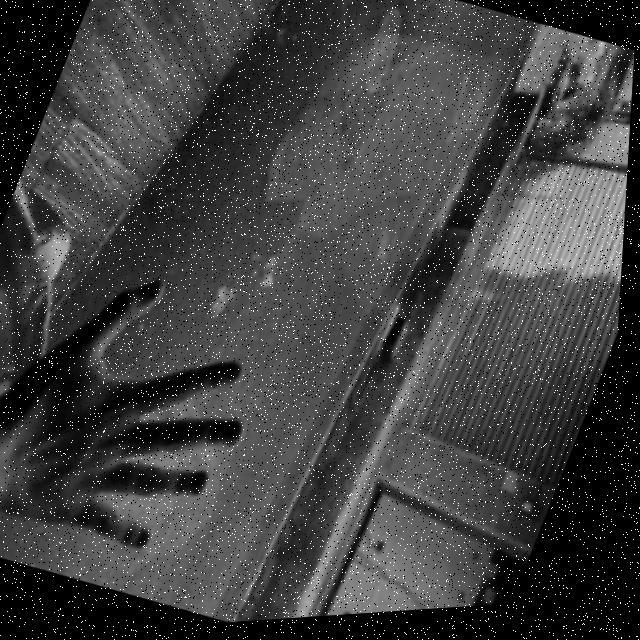no-gloves: (0, 247, 301, 581)
